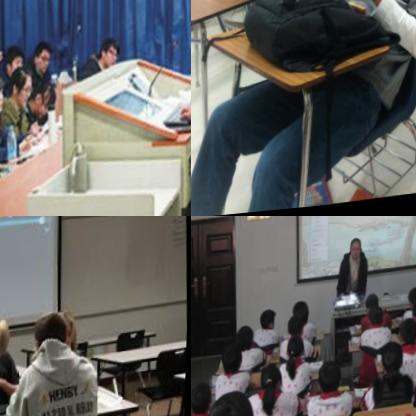head: (31, 313, 71, 360), (26, 75, 57, 122), (51, 309, 81, 357), (8, 65, 33, 110), (208, 394, 257, 416), (316, 360, 344, 398), (378, 343, 406, 380), (31, 40, 53, 78), (191, 382, 214, 416), (1, 43, 26, 74), (96, 39, 121, 70), (260, 363, 285, 394), (221, 345, 245, 377), (0, 316, 11, 375), (260, 304, 280, 335), (286, 313, 307, 341), (288, 334, 308, 363), (398, 322, 416, 354), (236, 326, 257, 350), (294, 302, 312, 327), (368, 308, 385, 332), (364, 293, 381, 316), (349, 239, 364, 261), (408, 289, 416, 311), (412, 301, 416, 326)
